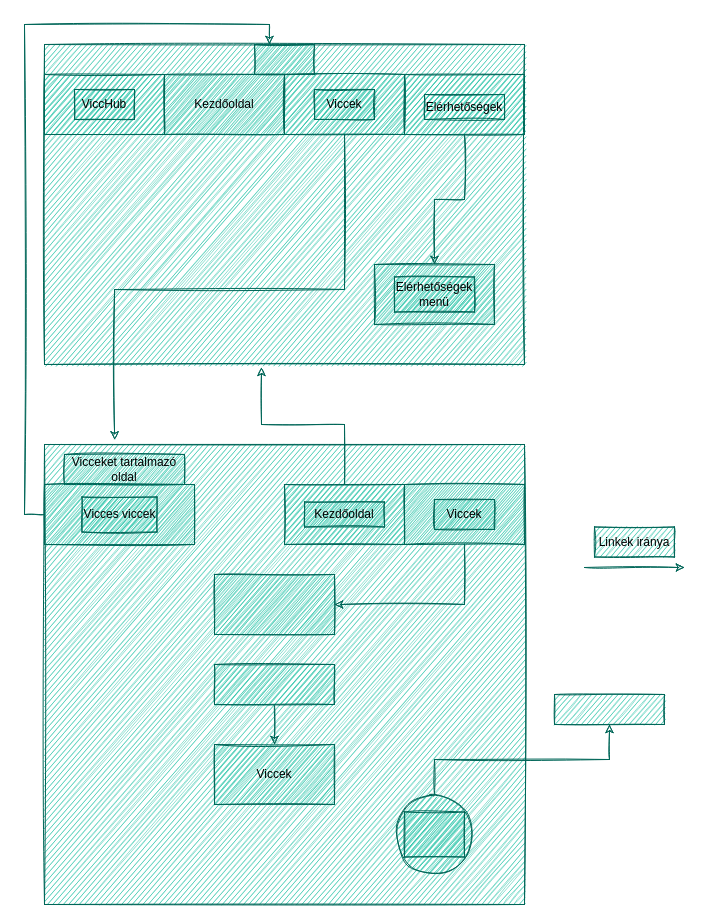
Some shapes in this 710 by 922 pixel diagram are drawn without their labels. The centre of each missing label's shape, as x and y in pixels:
Főoldal: point 284,59
Oldalra felfele gomb: point 434,834
Vicc téma lehetőségek: point 274,604
Vicc témák: point 274,684
Vicceket tartalmazó oldal teteje: point 609,709
